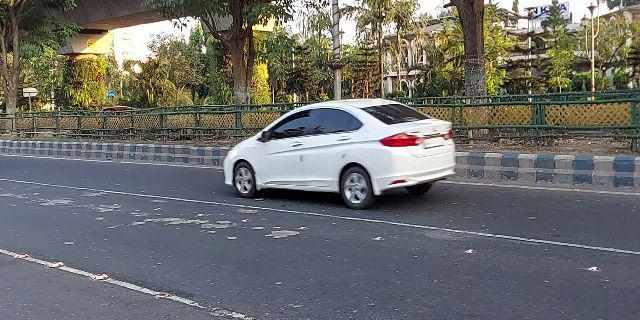Car: (219, 97, 459, 209)
